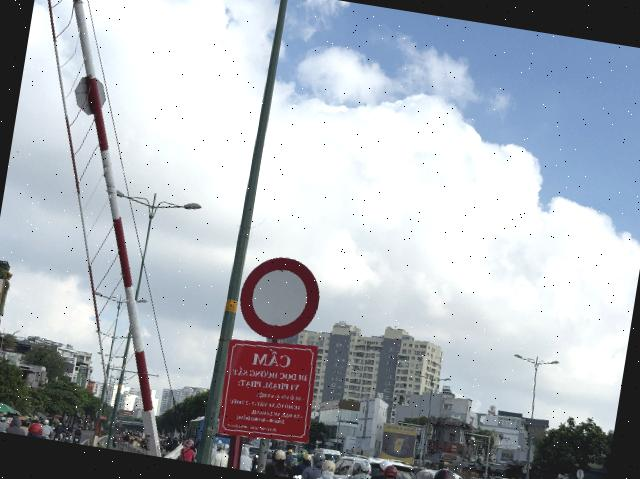duong-cam: (234, 251, 324, 346)
